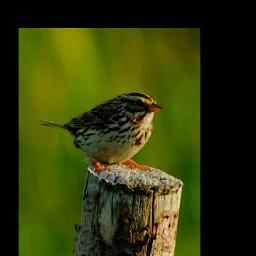Sparrow: (37, 90, 166, 174)
